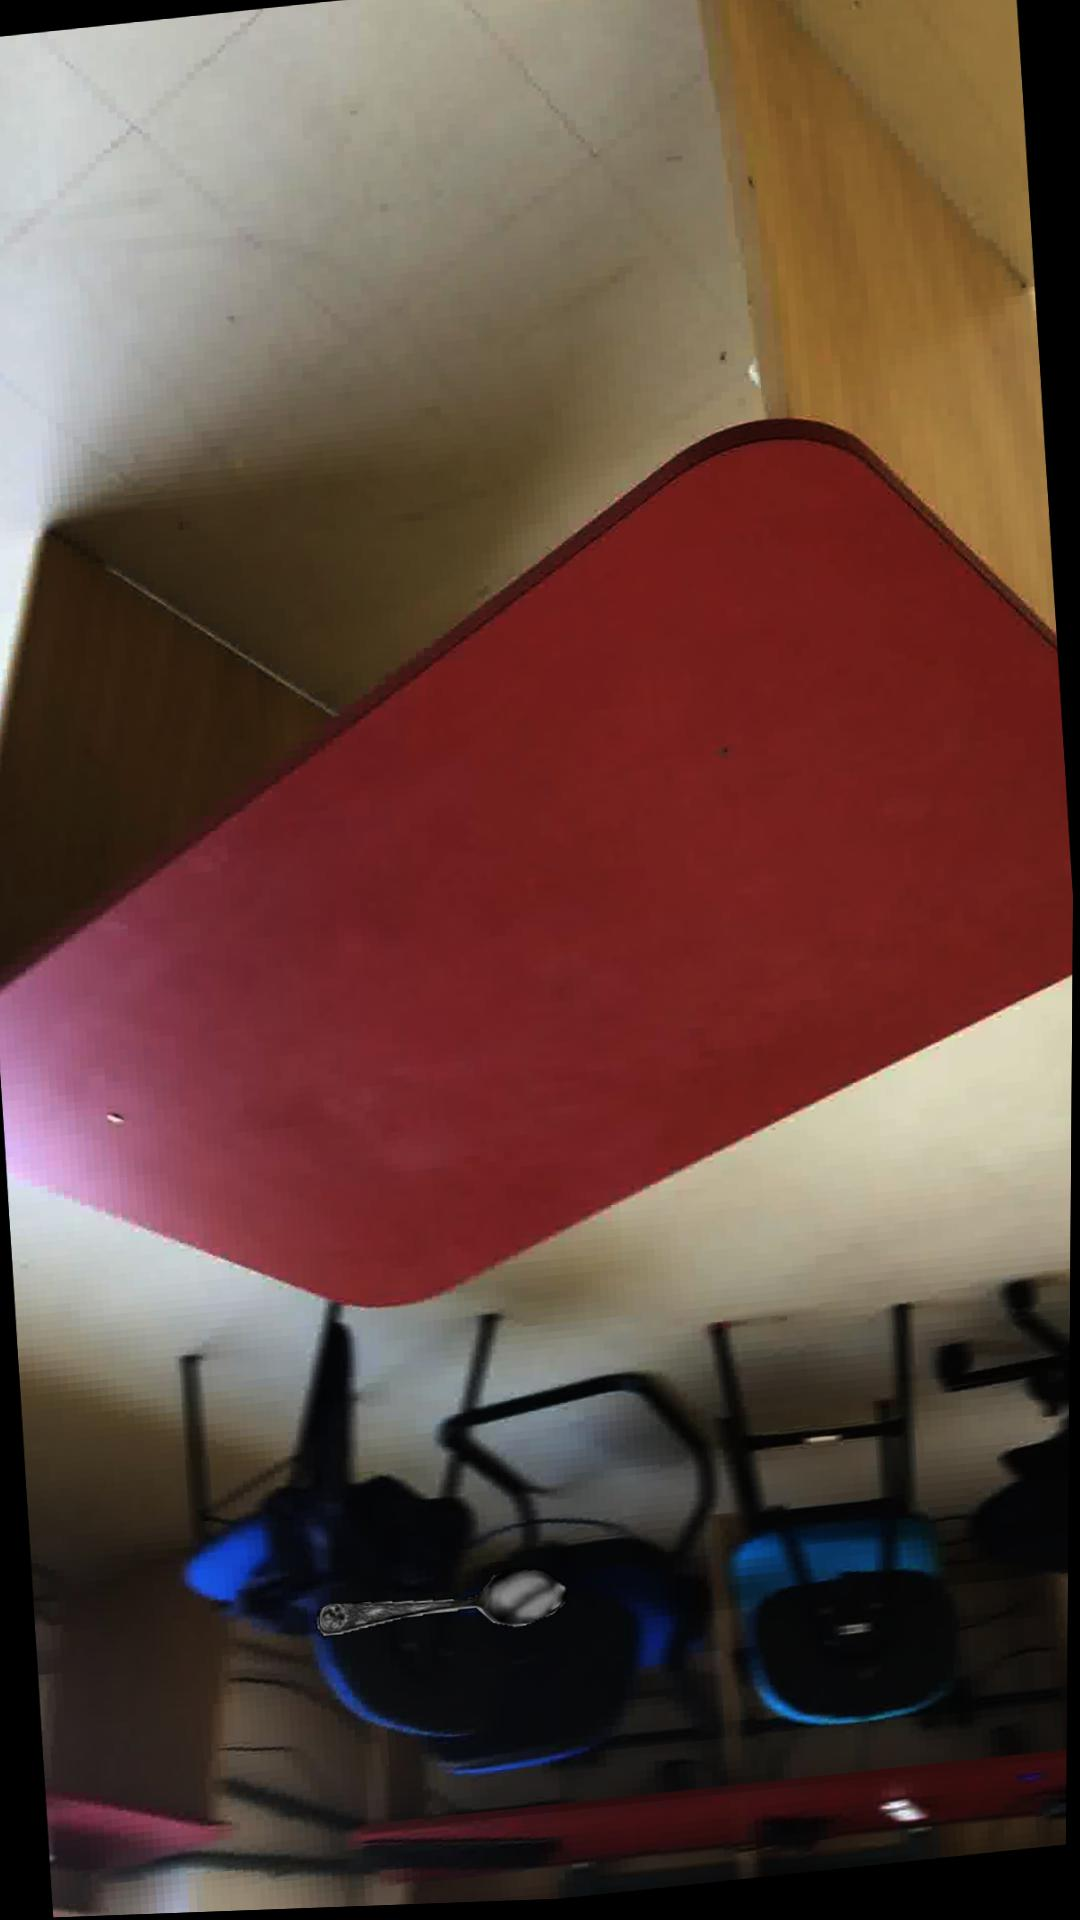spoon: (319, 1572, 571, 1640)
